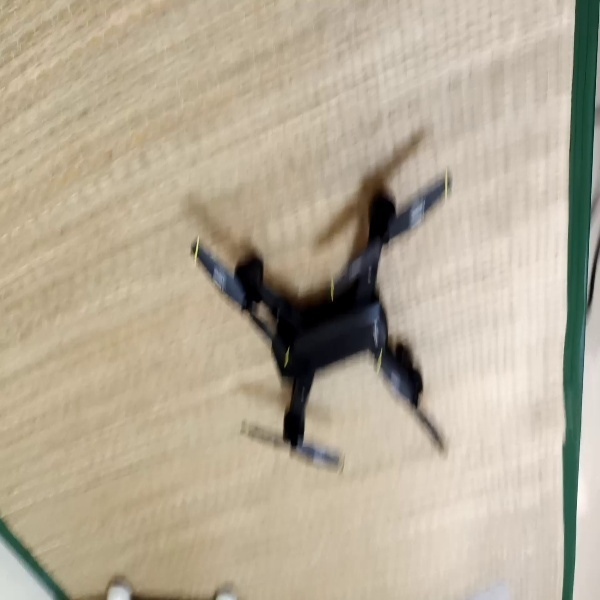drone: (184, 171, 460, 475)
